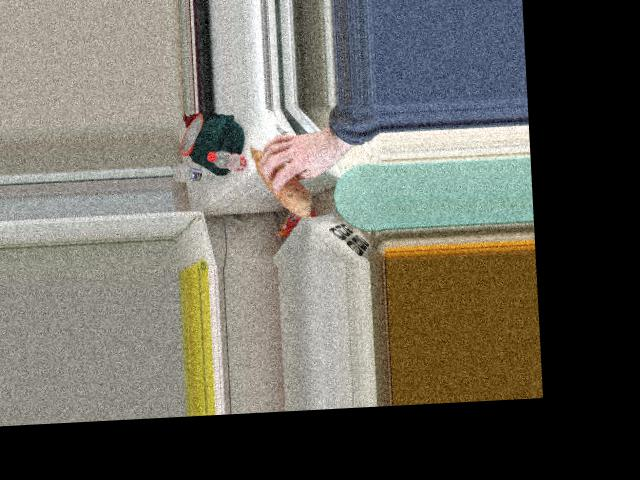sweet_potato: (251, 137, 309, 214)
